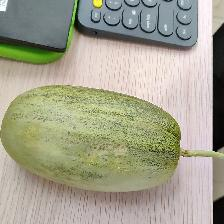gua: (22, 87, 196, 186)
